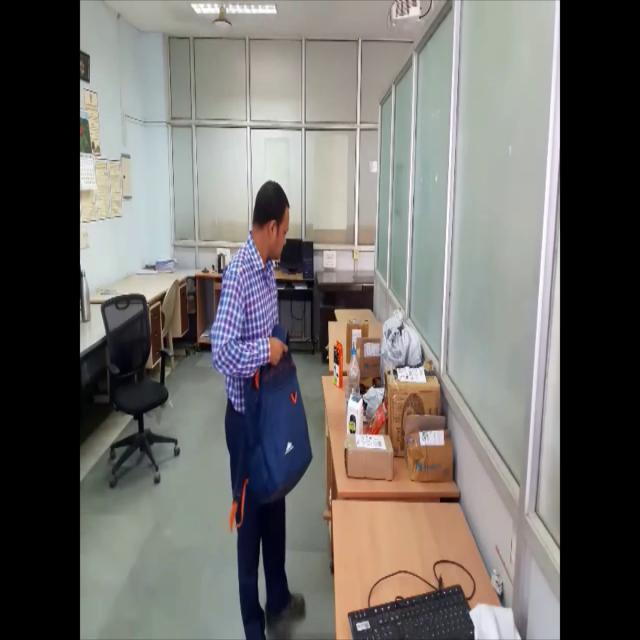shoplifting: (209, 180, 315, 640)
